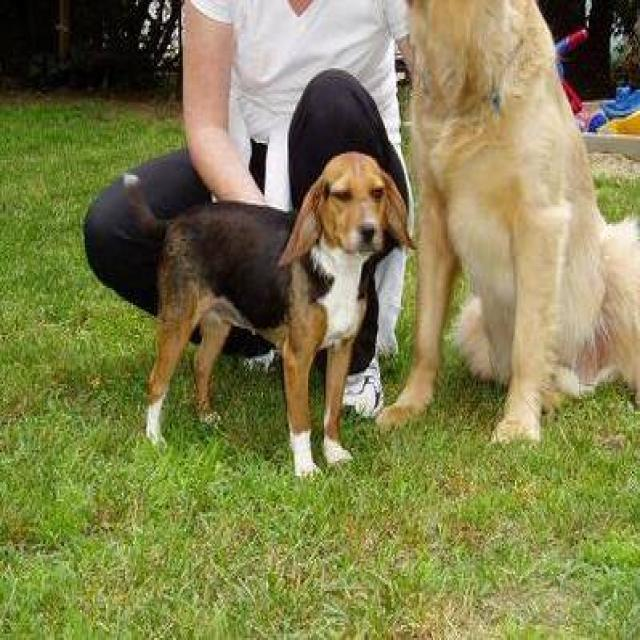dog: (374, 0, 638, 446), (124, 147, 416, 478)
